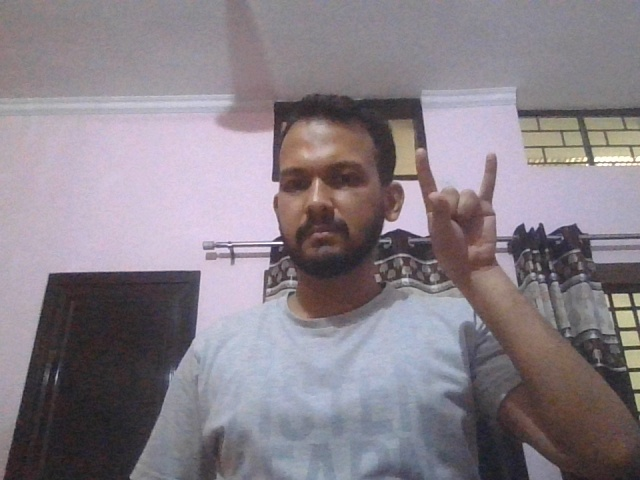iloveyou: (412, 148, 501, 276)
